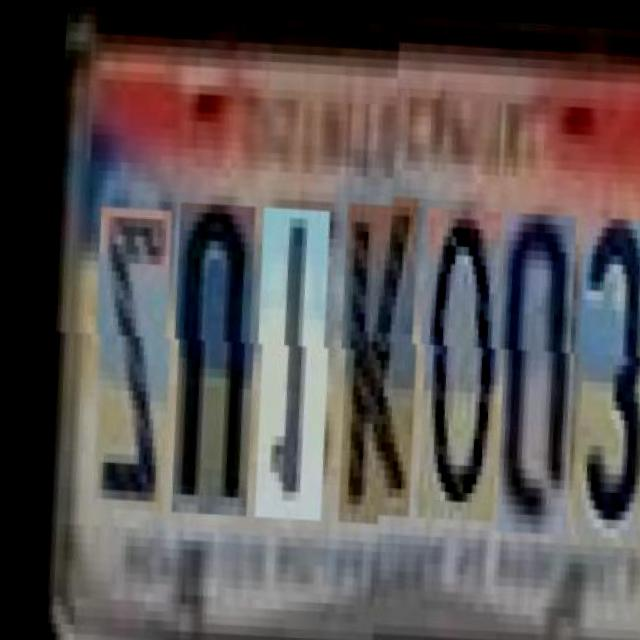0: (471, 206, 583, 529)
1: (230, 195, 336, 508)
3: (550, 210, 640, 533)
k: (313, 190, 426, 513)
o: (392, 203, 508, 516)
u: (147, 191, 263, 505)
z: (69, 197, 177, 501)
